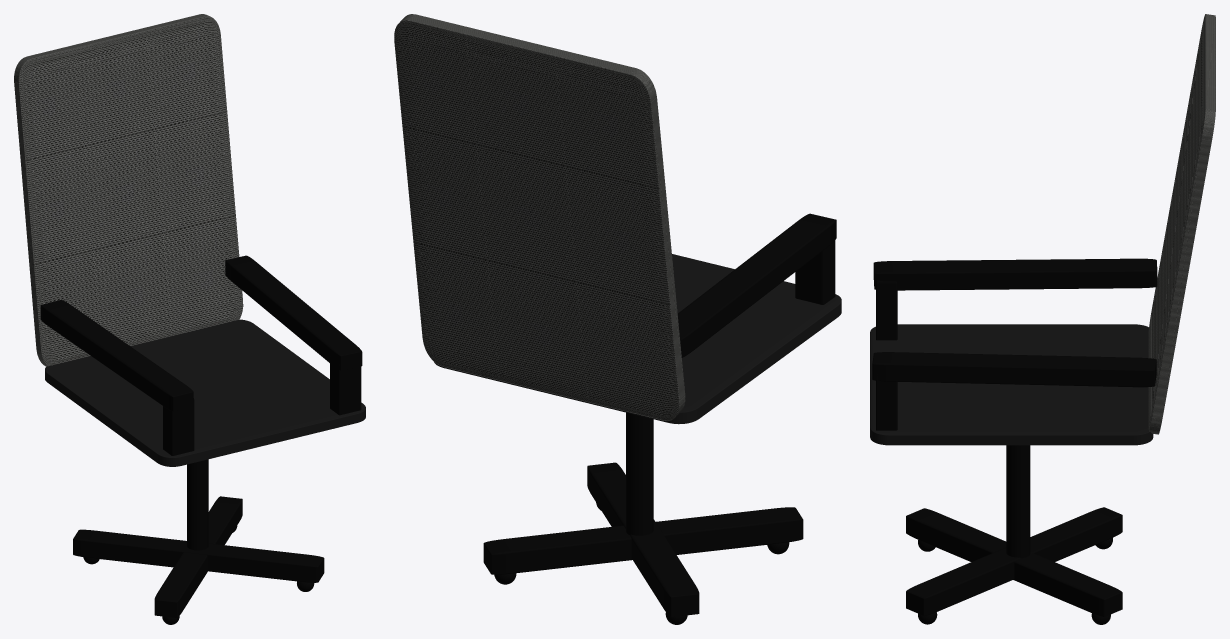
Rendered from state-mlrqdudw-h1ax.glb.
3 views of the same model, side by side, from view 1: azimuth 30°, elevation 25°; view 2: azimuth 150°, elevation 25°; view 3: azimuth 270°, elevation 25° (orthographic). The views are drawn at different scales.
Visible parts, largest first — view 1: assetPrim:5028f5326c4f1-19c73300d7f:865634a68ff0c8-19c6fa60e, assetPrim:5028f5326c4f1-19c73300d7f:8135caa097bd2-19c6fa9aca, assetPrim:5028f5326c4f1-19c73300d7f:222d821342865-19c6fb179d, assetPrim:5028f5326c4f1-19c73300d7f:7c74141cfb3f38-19c6fae01, assetPrim:5028f5326c4f1-19c73300d7f:6547e60f44d2c8-19c6fad75, assetPrim:5028f5326c4f1-19c73300d7f:16028c014b9e9-19c6fb11da, assetPrim:5028f5326c4f1-19c73300d7f:76547e0ddb7898-19c6fb1be, assetPrim:5028f5326c4f1-19c73300d7f:4a6bcc5b026328-19c6faebc, assetPrim:5028f5326c4f1-19c73300d7f:1b7fcbb9d8b61-19c6fb05a0; view 2: assetPrim:5028f5326c4f1-19c73300d7f:865634a68ff0c8-19c6fa60e, assetPrim:5028f5326c4f1-19c73300d7f:8135caa097bd2-19c6fa9aca, assetPrim:5028f5326c4f1-19c73300d7f:16028c014b9e9-19c6fb11da, assetPrim:5028f5326c4f1-19c73300d7f:7c74141cfb3f38-19c6fae01, assetPrim:5028f5326c4f1-19c73300d7f:222d821342865-19c6fb179d, assetPrim:5028f5326c4f1-19c73300d7f:76547e0ddb7898-19c6fb1be, assetPrim:5028f5326c4f1-19c73300d7f:1b7fcbb9d8b61-19c6fb05a0; view 3: assetPrim:5028f5326c4f1-19c73300d7f:8135caa097bd2-19c6fa9aca, assetPrim:5028f5326c4f1-19c73300d7f:865634a68ff0c8-19c6fa60e, assetPrim:5028f5326c4f1-19c73300d7f:6547e60f44d2c8-19c6fad75, assetPrim:5028f5326c4f1-19c73300d7f:7c74141cfb3f38-19c6fae01, assetPrim:5028f5326c4f1-19c73300d7f:222d821342865-19c6fb179d, assetPrim:5028f5326c4f1-19c73300d7f:16028c014b9e9-19c6fb11da, assetPrim:5028f5326c4f1-19c73300d7f:76547e0ddb7898-19c6fb1be, assetPrim:5028f5326c4f1-19c73300d7f:1b7fcbb9d8b61-19c6fb05a0, assetPrim:5028f5326c4f1-19c73300d7f:4a6bcc5b026328-19c6faebc.
Part boxes in pixels (<box>): assetPrim:5028f5326c4f1-19c73300d7f:865634a68ff0c8-19c6fa60e: <box>14,14,243,366</box>; assetPrim:5028f5326c4f1-19c73300d7f:8135caa097bd2-19c6fa9aca: <box>45,319,365,466</box>; assetPrim:5028f5326c4f1-19c73300d7f:222d821342865-19c6fb179d: <box>73,529,324,582</box>; assetPrim:5028f5326c4f1-19c73300d7f:7c74141cfb3f38-19c6fae01: <box>40,300,193,411</box>; assetPrim:5028f5326c4f1-19c73300d7f:6547e60f44d2c8-19c6fad75: <box>225,255,362,370</box>; assetPrim:5028f5326c4f1-19c73300d7f:16028c014b9e9-19c6fb11da: <box>154,496,242,617</box>; assetPrim:5028f5326c4f1-19c73300d7f:76547e0ddb7898-19c6fb1be: <box>187,459,208,550</box>; assetPrim:5028f5326c4f1-19c73300d7f:4a6bcc5b026328-19c6faebc: <box>330,356,361,415</box>; assetPrim:5028f5326c4f1-19c73300d7f:1b7fcbb9d8b61-19c6fb05a0: <box>163,398,194,455</box>; assetPrim:5028f5326c4f1-19c73300d7f:865634a68ff0c8-19c6fa60e: <box>394,14,685,420</box>; assetPrim:5028f5326c4f1-19c73300d7f:8135caa097bd2-19c6fa9aca: <box>434,254,841,424</box>; assetPrim:5028f5326c4f1-19c73300d7f:16028c014b9e9-19c6fb11da: <box>483,507,803,574</box>; assetPrim:5028f5326c4f1-19c73300d7f:7c74141cfb3f38-19c6fae01: <box>677,213,836,357</box>; assetPrim:5028f5326c4f1-19c73300d7f:222d821342865-19c6fb179d: <box>587,462,699,616</box>; assetPrim:5028f5326c4f1-19c73300d7f:76547e0ddb7898-19c6fb1be: <box>626,412,653,535</box>; assetPrim:5028f5326c4f1-19c73300d7f:1b7fcbb9d8b61-19c6fb05a0: <box>795,240,835,304</box>; assetPrim:5028f5326c4f1-19c73300d7f:8135caa097bd2-19c6fa9aca: <box>870,324,1153,445</box>; assetPrim:5028f5326c4f1-19c73300d7f:865634a68ff0c8-19c6fa60e: <box>1148,14,1215,434</box>; assetPrim:5028f5326c4f1-19c73300d7f:6547e60f44d2c8-19c6fad75: <box>872,352,1156,387</box>; assetPrim:5028f5326c4f1-19c73300d7f:7c74141cfb3f38-19c6fae01: <box>873,258,1157,290</box>; assetPrim:5028f5326c4f1-19c73300d7f:222d821342865-19c6fb179d: <box>906,507,1122,615</box>; assetPrim:5028f5326c4f1-19c73300d7f:16028c014b9e9-19c6fb11da: <box>906,508,1122,616</box>; assetPrim:5028f5326c4f1-19c73300d7f:76547e0ddb7898-19c6fb1be: <box>1006,445,1030,558</box>; assetPrim:5028f5326c4f1-19c73300d7f:1b7fcbb9d8b61-19c6fb05a0: <box>876,280,897,340</box>; assetPrim:5028f5326c4f1-19c73300d7f:4a6bcc5b026328-19c6faebc: <box>876,374,897,430</box>.
Size of the model in its own units: 0.7424 by 1.61 by 0.9582.
13 materials, 1 textured.
